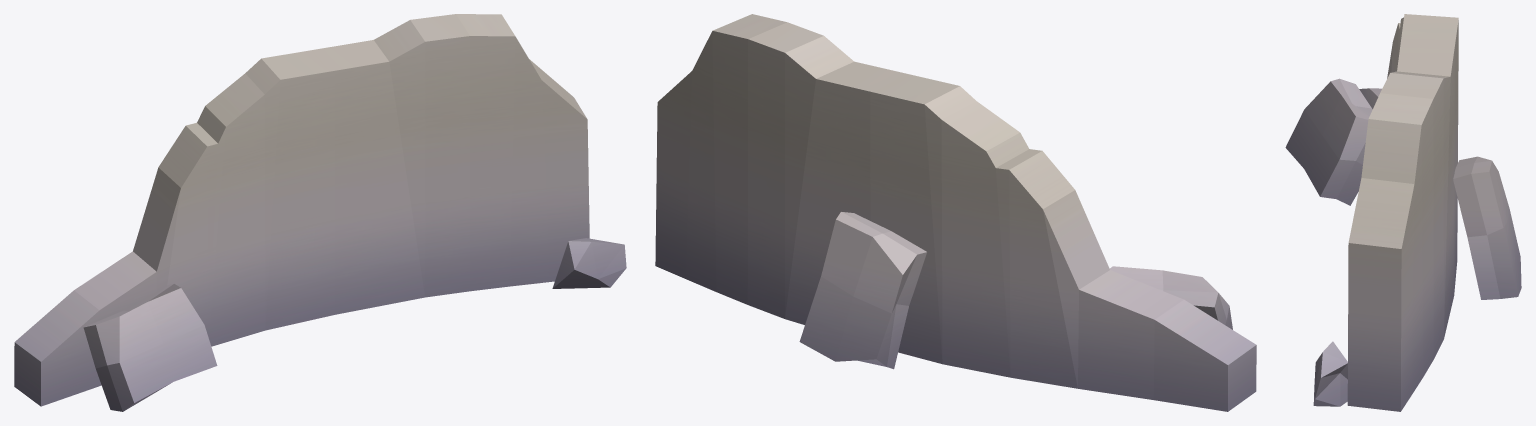
File: Broken Wall.fbx
3 renders of one model, left to right at view 1: azimuth 30°, elevation 25°; view 2: azimuth 150°, elevation 25°; view 3: azimuth 270°, elevation 25°, orthographic. The views are drawn at different scales.
Visible parts, largest first — view 1: Broken Wall; view 2: Broken Wall; view 3: Broken Wall.
Boxes of the visible parts, x1,y1,x2,y2 form: Broken Wall: (14,14,626,411); Broken Wall: (655,14,1256,411); Broken Wall: (1285,14,1521,411).
Size of the model in its own units: 802 by 348 by 284.
